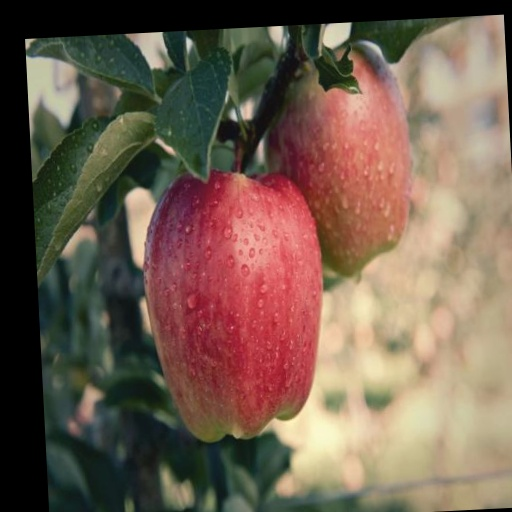fruit: (144, 171, 322, 441), (267, 49, 410, 275)
